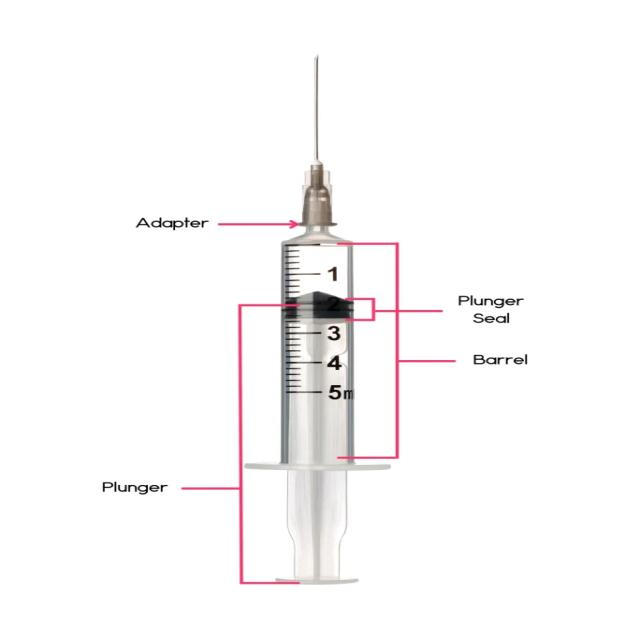syringe: (219, 53, 447, 585)
